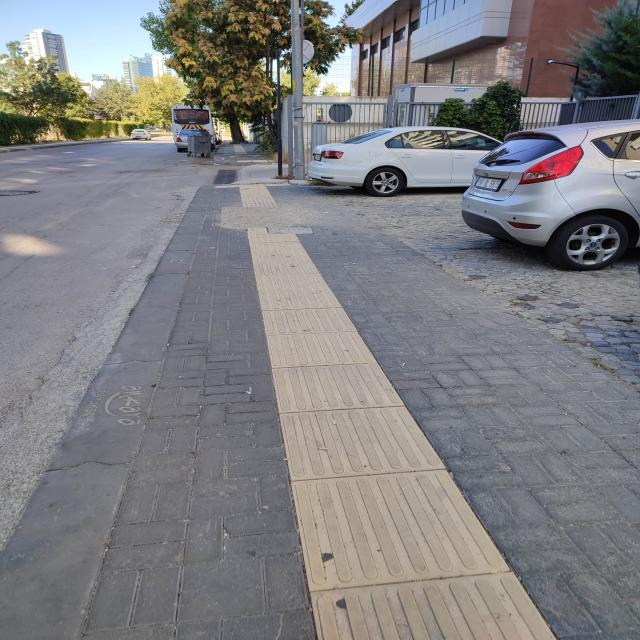sidewalk: (3, 185, 637, 640)
